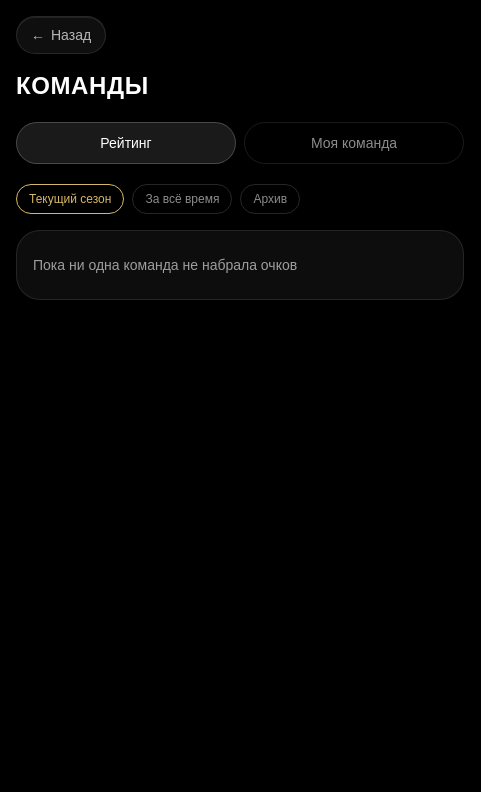
Test: Teams -- Моя команда tab, has a team › 5/5 full state hides the Пригласить button
The image size is (481, 792).
Click the button "Моя команда".
click(354, 143)  # box [244,122,464,164]
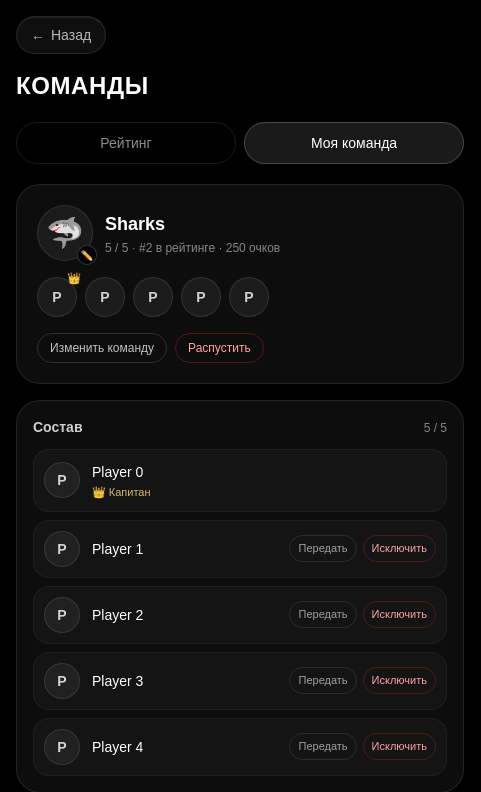
Result: the text "5 / 5" is shown at [105,241,280,255]
